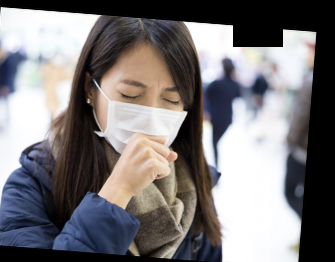with_mask: (96, 77, 187, 158)
